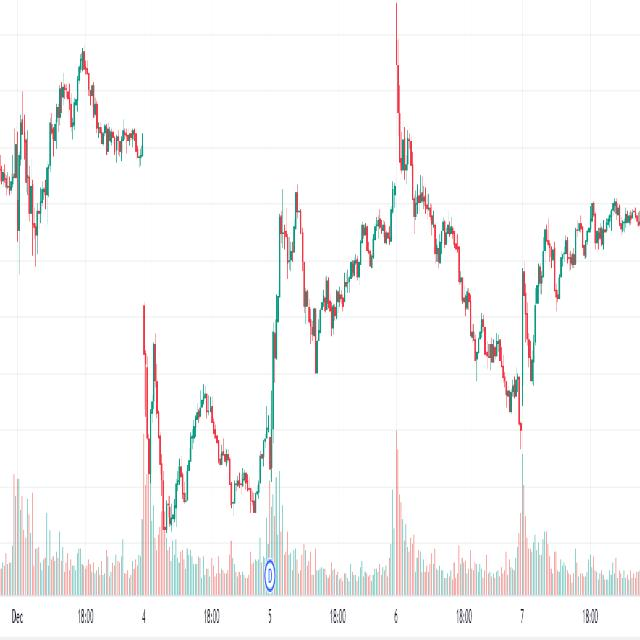Double-Top: (273, 182, 308, 308)
Head-Shoulders: (174, 363, 236, 529)
Rising-Wedge: (515, 182, 638, 396), (296, 204, 396, 407)
